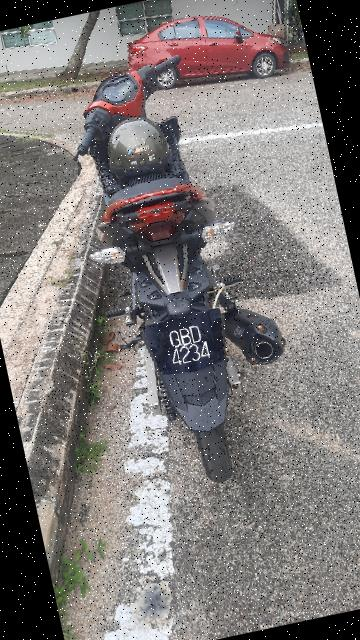License_Plate: (117, 287, 278, 412)
motorcycle: (18, 37, 318, 519)
